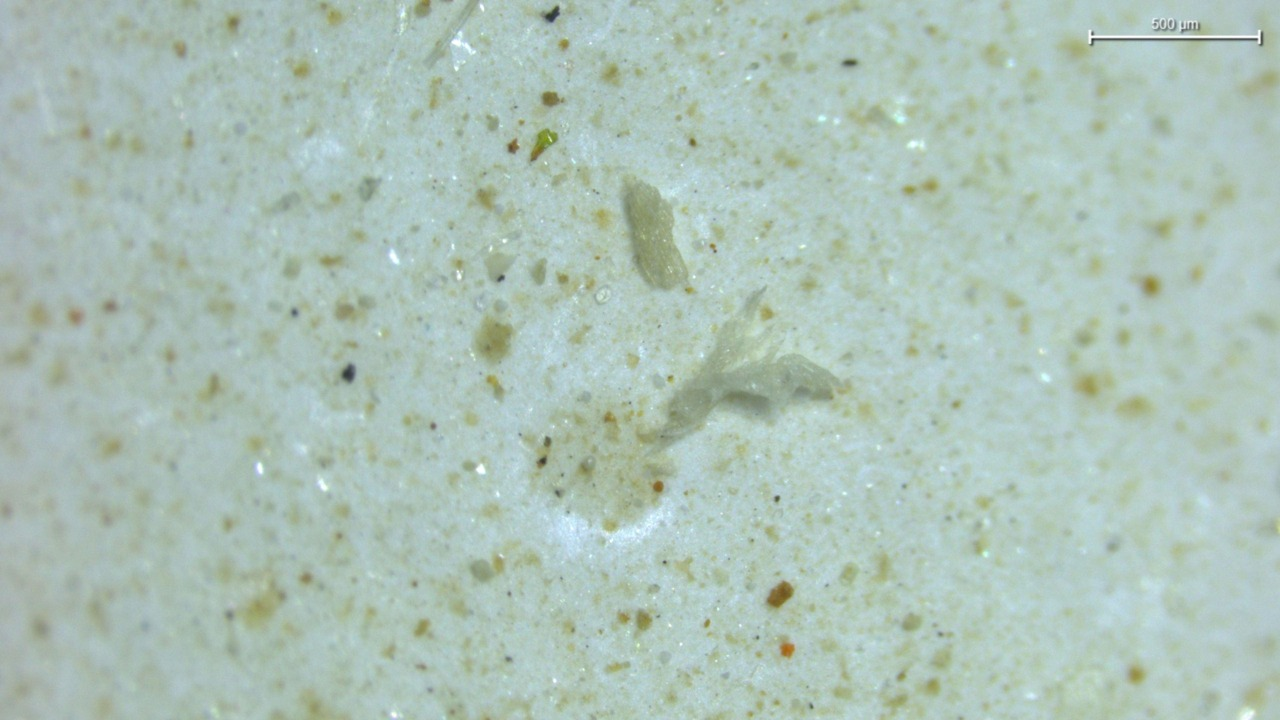microplastic_fragment: (658, 288, 840, 441), (623, 181, 688, 289)
